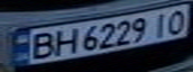2: (96, 20, 121, 51), (115, 17, 136, 47)
6: (78, 22, 103, 52)
9: (130, 14, 154, 43)
B: (21, 29, 60, 61)
H: (48, 26, 81, 56)
I: (148, 10, 175, 37)
O: (163, 7, 193, 35)
